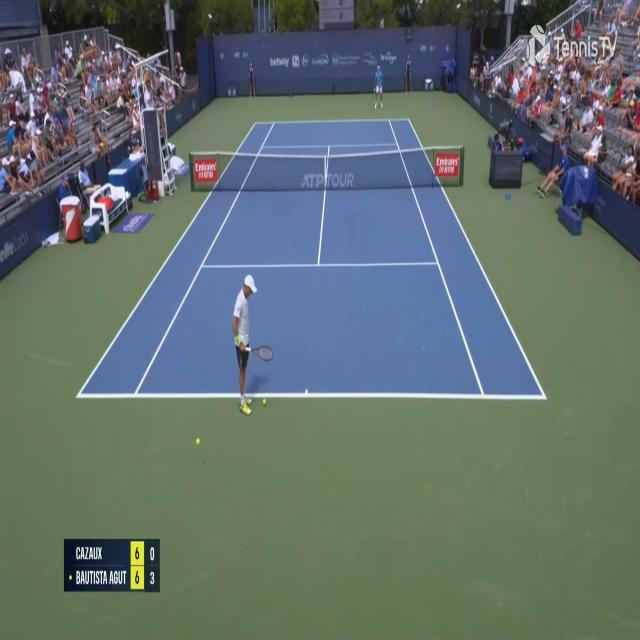tennis-player: (231, 270, 275, 416), (372, 62, 384, 110)
